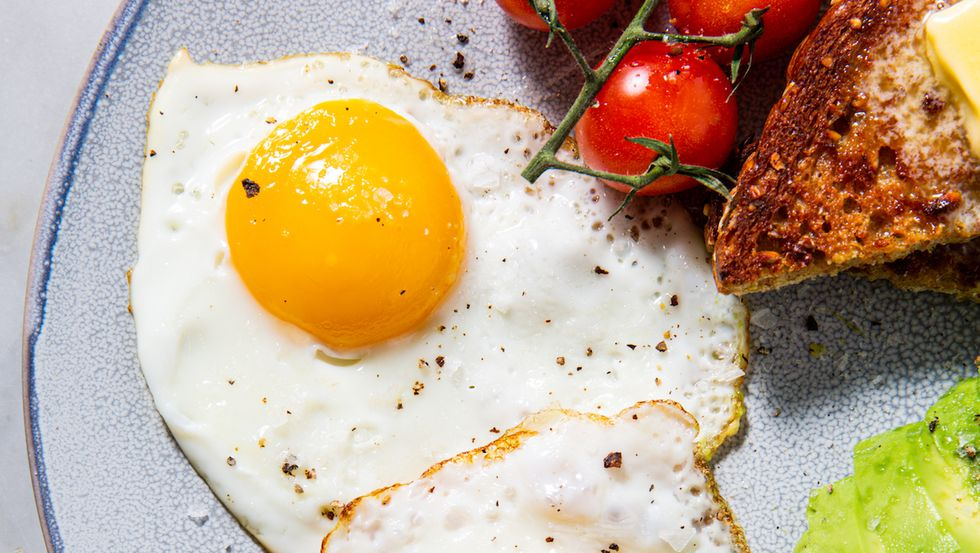Sunny Side Up: (131, 51, 576, 552)
Toast: (718, 0, 979, 300)
